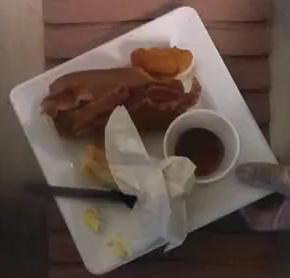bacon: (42, 67, 201, 136)
unknown: (130, 46, 191, 75)
